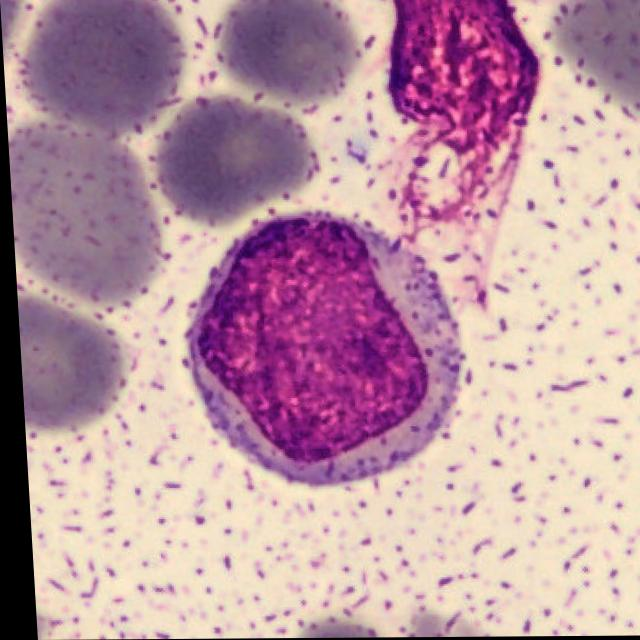Artefato: (387, 0, 539, 301)
Mieloblasto: (180, 211, 461, 486)
